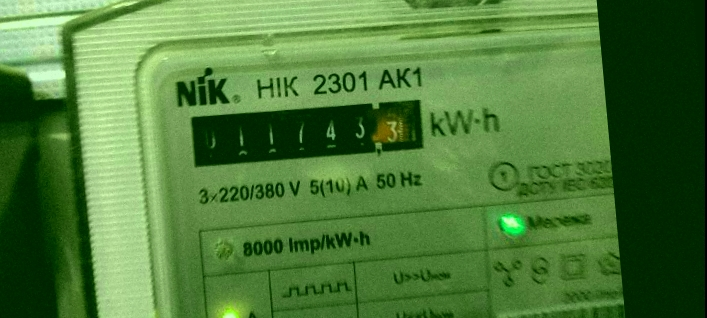0: (201, 122, 217, 152)
1: (262, 117, 276, 146), (233, 120, 245, 148)
3: (351, 112, 367, 140), (382, 118, 399, 144)
4: (321, 115, 337, 143)
7: (291, 114, 308, 143)
screen: (177, 84, 436, 180)
